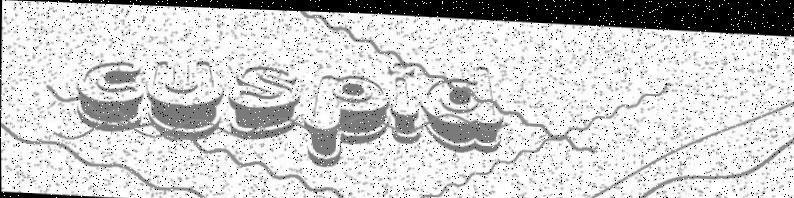c: (74, 58, 143, 132)
d: (418, 59, 503, 153)
i: (385, 57, 421, 142)
p: (302, 69, 391, 169)
s: (226, 62, 300, 140)
u: (144, 55, 225, 140)
